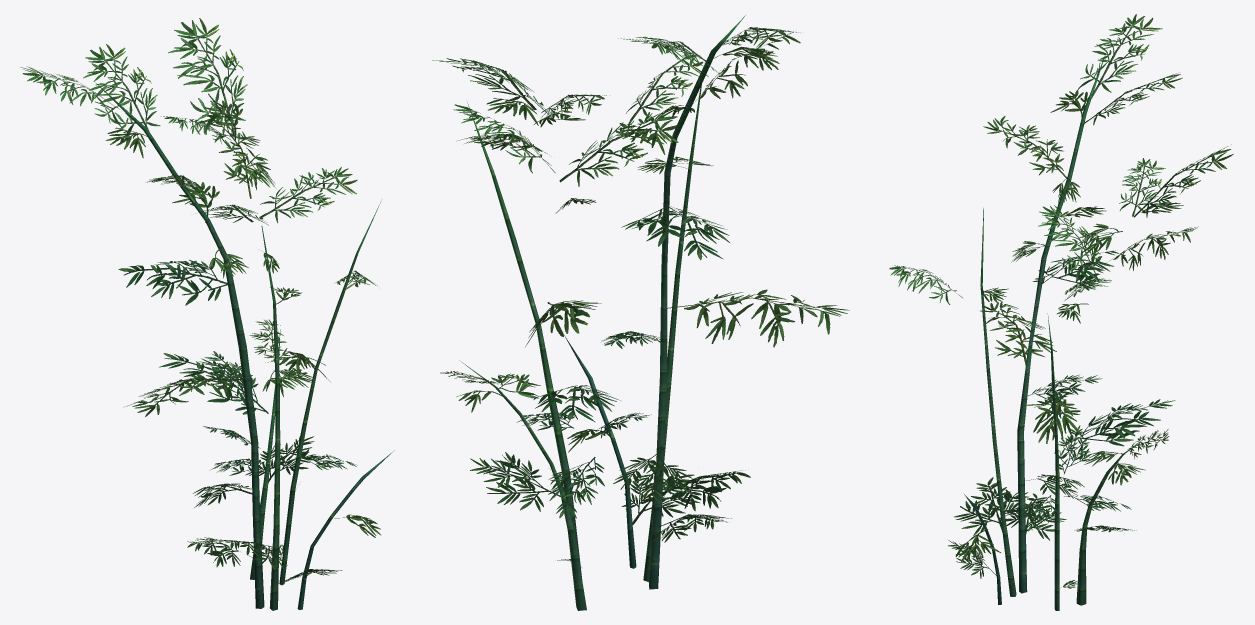
Rendered from xzl_zhuzi01_jgc.FBX.
3 renders of one model, left to right at view 1: azimuth 30°, elevation 25°; view 2: azimuth 150°, elevation 25°; view 3: azimuth 270°, elevation 25°, orthographic. The views are drawn at different scales.
Parts seen in each view (by area): view 1: xzl_zhuzi01_jgc; view 2: xzl_zhuzi01_jgc; view 3: xzl_zhuzi01_jgc.
Part boxes in pixels (box(x1,y1,x2,y2)): xzl_zhuzi01_jgc: box(20, 18, 394, 610); xzl_zhuzi01_jgc: box(432, 15, 849, 610); xzl_zhuzi01_jgc: box(889, 14, 1233, 610).
Size of the model in its own units: 3546 by 5526 by 3591.
